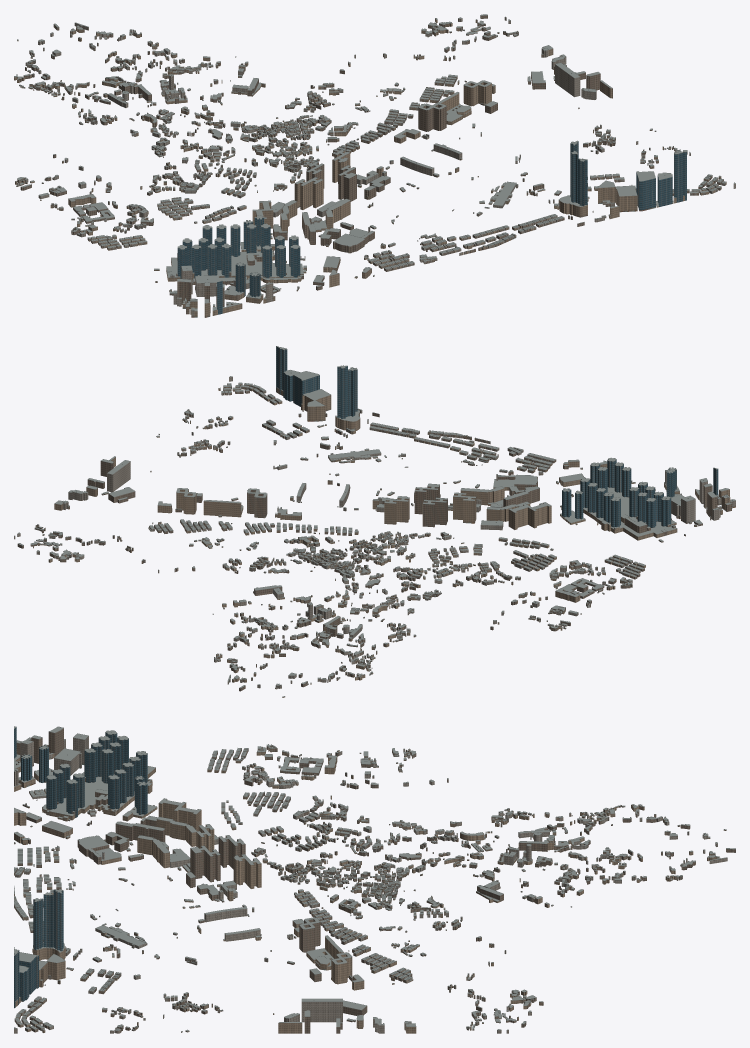
File: kwai-chung-north-buildings.glb
The picture shows the model from 3 angles, top to bottom: view 1: azimuth 30°, elevation 25°; view 2: azimuth 150°, elevation 25°; view 3: azimuth 270°, elevation 25°; orthographic projection. The views are drawn at different scales.
Parts seen in each view (by area): view 1: District_-43_-69, District_-42_-68, District_-42_-69, District_-33_-67.001, District_-40_-69, District_-39_-71, District_-44_-68, District_-43_-68, District_-38_-71, District_-40_-70, District_-35_-73, District_-34_-74 (+22 smaller); view 2: District_-43_-69, District_-39_-71, District_-35_-73, District_-42_-69, District_-34_-68, District_-33_-67.001, District_-40_-70, District_-44_-68, District_-42_-68, District_-40_-69, District_-41_-70, District_-35_-68 (+8 smaller); view 3: District_-43_-69, District_-40_-69, District_-42_-69, District_-38_-71, District_-40_-70, District_-44_-68, District_-34_-68, District_-42_-68, District_-39_-71, District_-35_-68, District_-41_-70, District_-32_-73 (+31 smaller).
Part boxes in pixels (x1,y1,x2,y2): District_-43_-69: (166, 225, 303, 281); District_-42_-68: (248, 235, 301, 290); District_-42_-69: (216, 220, 270, 265); District_-33_-67.001: (636, 171, 672, 211); District_-40_-69: (302, 212, 374, 253); District_-39_-71: (294, 161, 324, 209); District_-44_-68: (169, 265, 219, 308); District_-43_-68: (193, 243, 249, 300); District_-38_-71: (338, 165, 390, 201); District_-40_-70: (280, 198, 350, 232); District_-35_-73: (418, 92, 459, 137); District_-34_-74: (422, 80, 491, 106); District_-43_-69: (583, 486, 677, 540); District_-39_-71: (422, 492, 476, 527); District_-35_-73: (203, 488, 278, 518); District_-42_-69: (575, 478, 613, 525); District_-34_-68: (293, 365, 347, 433); District_-33_-67.001: (275, 370, 319, 410); District_-40_-70: (460, 486, 530, 521); District_-44_-68: (671, 491, 722, 526); District_-42_-68: (597, 457, 631, 497); District_-40_-69: (498, 474, 539, 506); District_-41_-70: (508, 502, 551, 529); District_-35_-68: (335, 367, 387, 438); District_-43_-69: (48, 736, 155, 820); District_-40_-69: (77, 821, 165, 864); District_-42_-69: (95, 756, 144, 813); District_-38_-71: (190, 845, 237, 900); District_-40_-70: (137, 817, 196, 868); District_-44_-68: (43, 726, 88, 775); District_-34_-68: (46, 889, 94, 980); District_-42_-68: (42, 763, 84, 813); District_-39_-71: (196, 824, 245, 869); District_-35_-68: (33, 892, 82, 960); District_-41_-70: (140, 798, 201, 831); District_-32_-73: (301, 998, 342, 1022).
Size of what is drawn, in the model's own units: 1752 by 198 by 1868.
7 materials, 6 textured.
